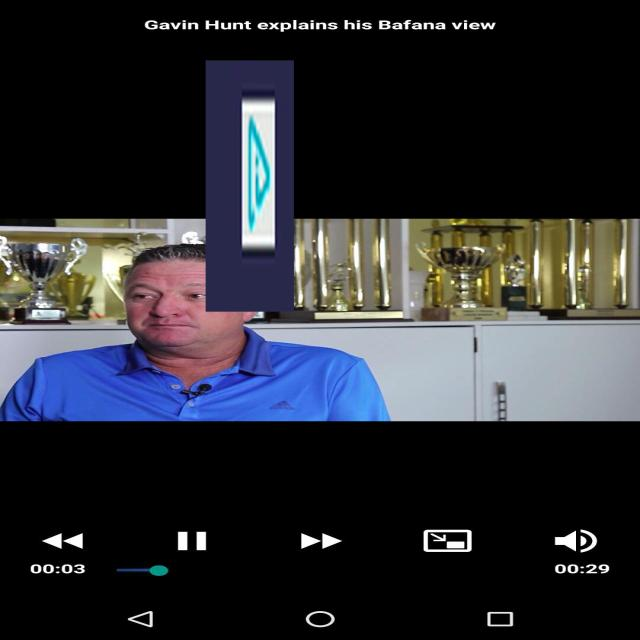sneaking: (206, 60, 294, 312)
